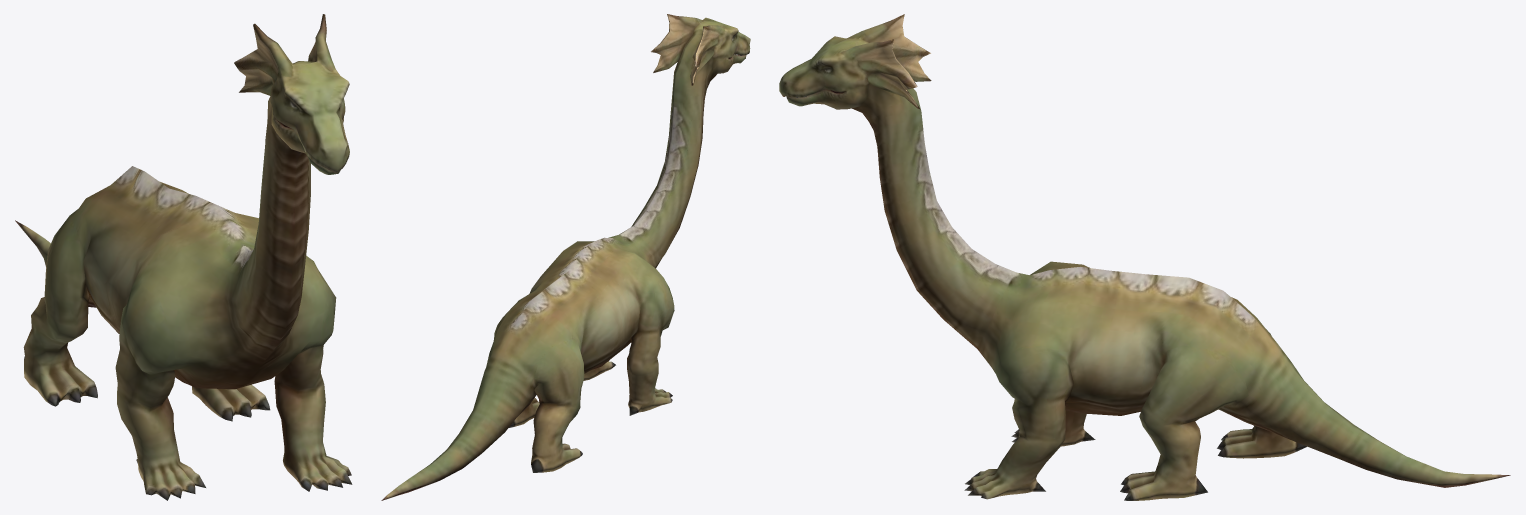
Rendered from 66-hydra.glb.
3 views of the same model, side by side, from view 1: azimuth 30°, elevation 25°; view 2: azimuth 150°, elevation 25°; view 3: azimuth 270°, elevation 25° (orthographic). The views are drawn at different scales.
Bounding box in the file's own units: 2.22 × 5.79 × 8.92.
1 material, 1 textured.
